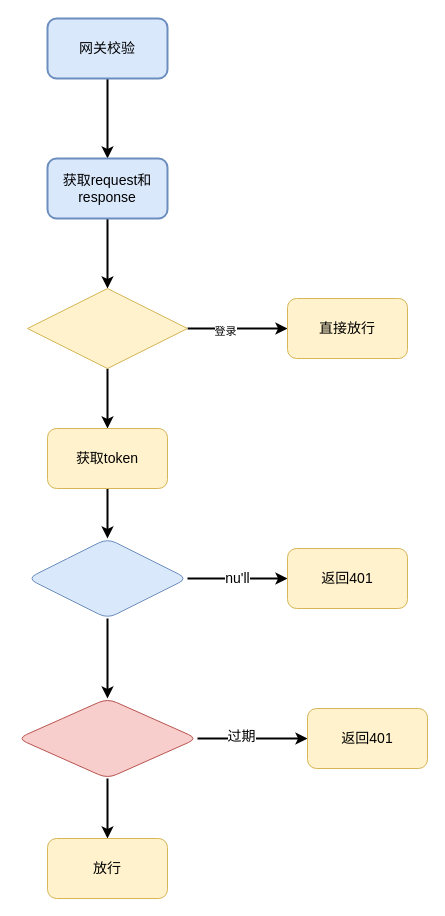
Some shapes in this 445 by 916 pixel diagram are drawn without their labels. Here are the shapes that lost their labels. From the top down, the box of each, then its label:
(26, 288, 188, 368): 判断是登录还是其他请求
(26, 538, 188, 618): 判断token是否为null
(16, 698, 198, 778): 校验是否过期
